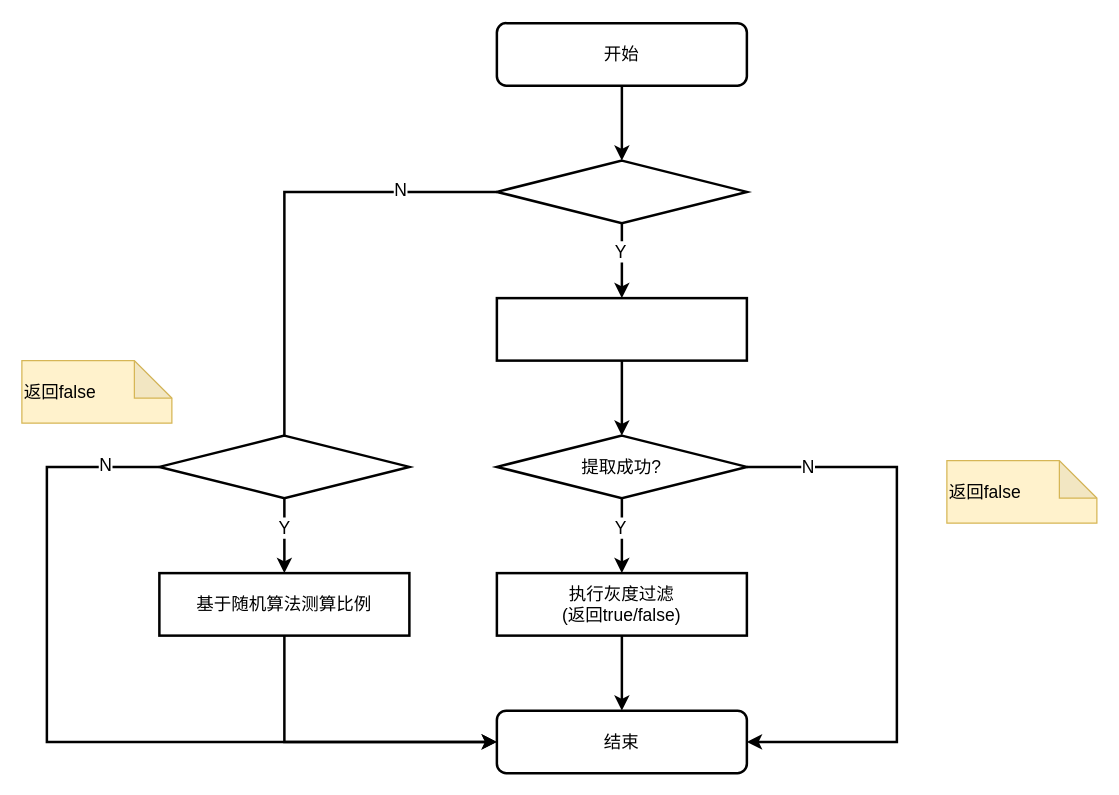
The diagram is 1119 pixels wide and 795 high, and some of its shapes have lost their labels. Here are the shapes that lost their labels. From the top down, the centre of each, then its label:
the point at 621,191: 具备属性维度?
the point at 621,328: 提取灰度属性值
the point at 284,466: 配置百分比条件?
